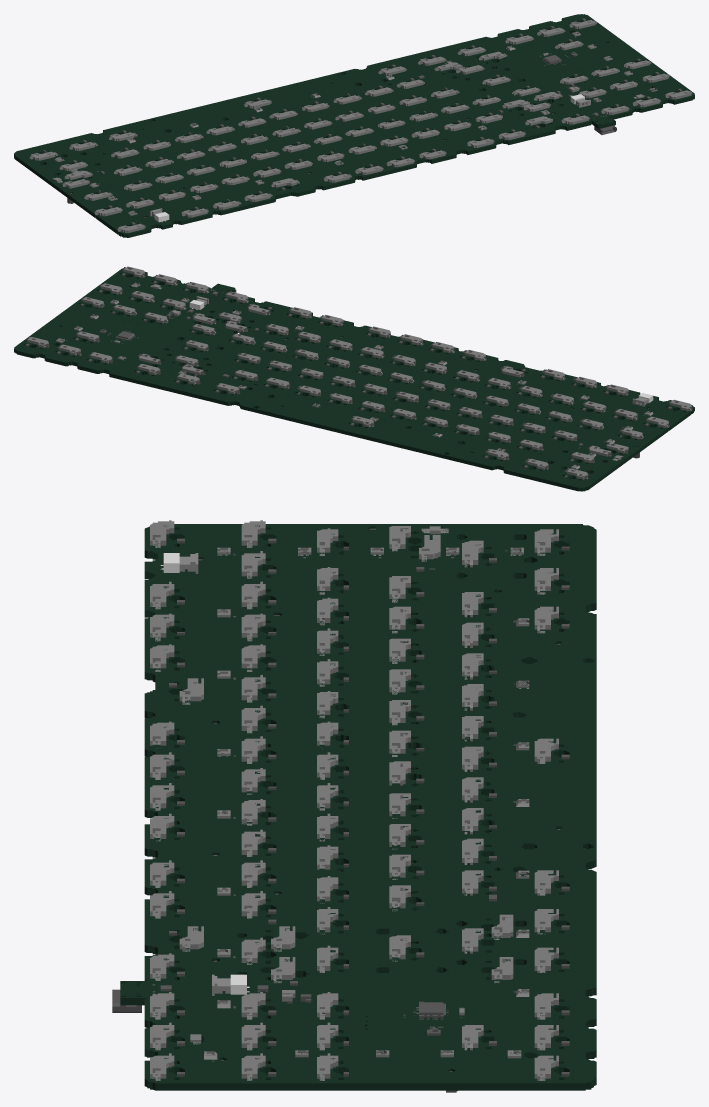
File: infinity87-hs.glb
3 views of the same model, one above another, from view 1: azimuth 30°, elevation 25°; view 2: azimuth 150°, elevation 25°; view 3: azimuth 270°, elevation 25° (orthographic). The views are drawn at different scales.
Parts seen in each view (by area): view 1: infinity87-hs; view 2: infinity87-hs; view 3: infinity87-hs.
Boxes of the visible parts, <box> form: infinity87-hs: <box>14,14,694,237</box>; infinity87-hs: <box>14,266,694,491</box>; infinity87-hs: <box>112,520,596,1092</box>.
Bounding box in the file's own units: 344 × 8.4 × 126.
